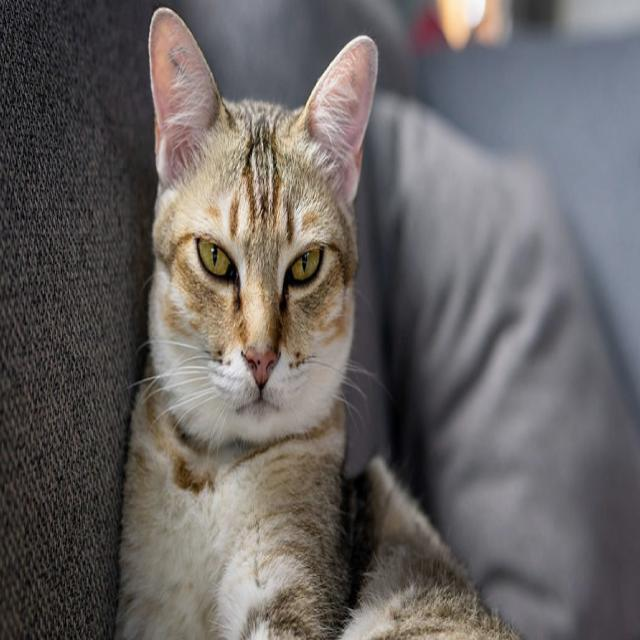cat: (116, 8, 519, 639)
